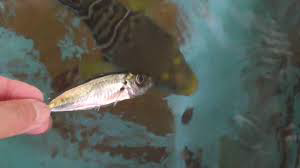azi: (38, 69, 160, 114)
